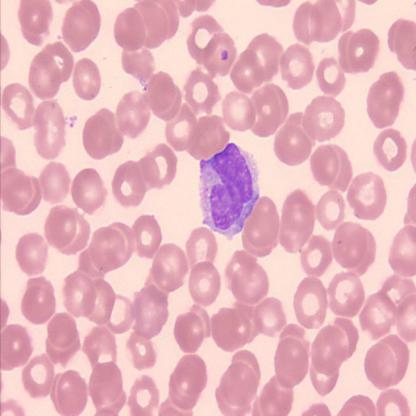Monocyte: (195, 140, 262, 243)
